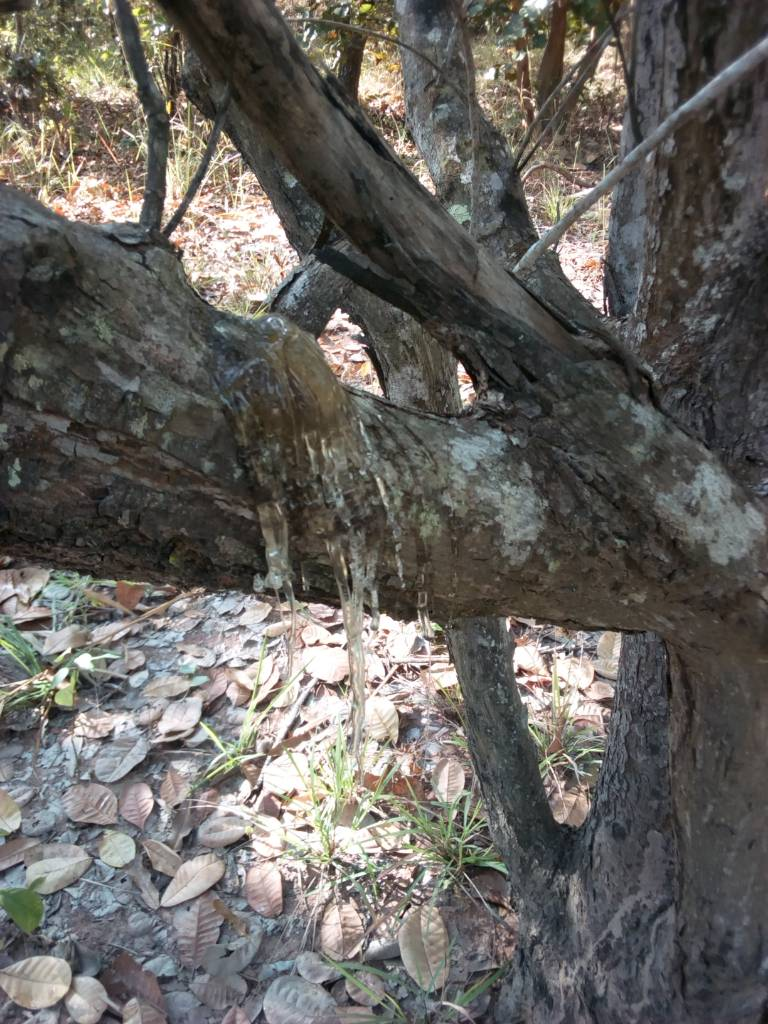Termites: (672, 639, 768, 935)
